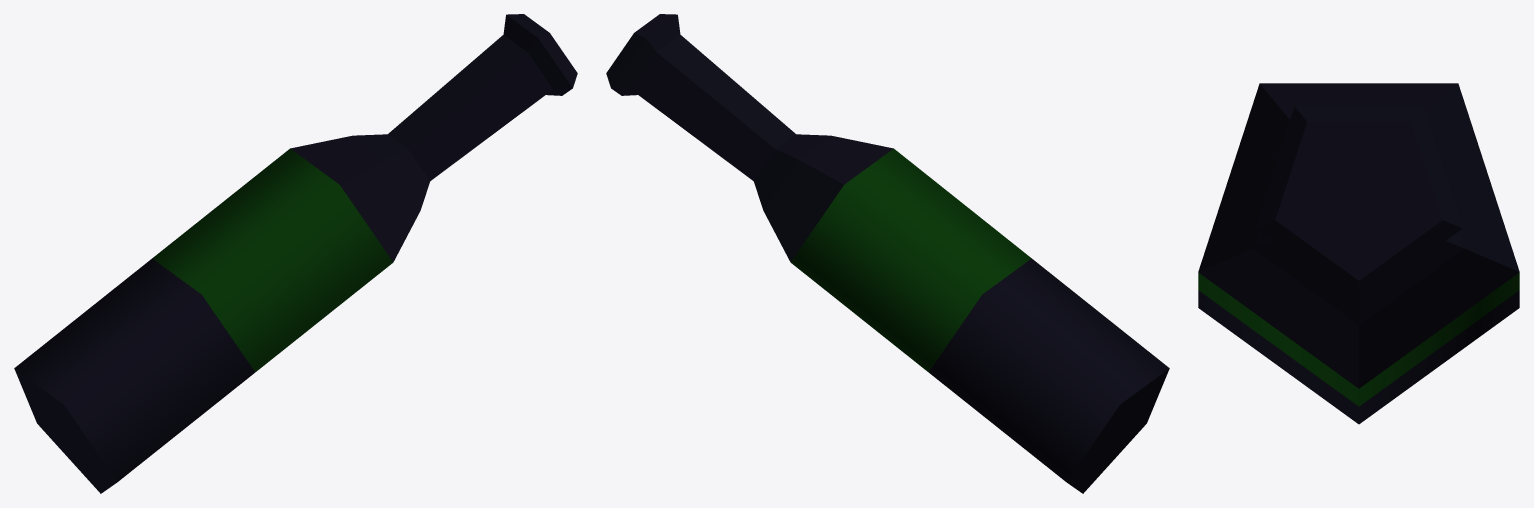
File: Projectile_Bottle.FBX
3 views of the same model, side by side, from view 1: azimuth 30°, elevation 25°; view 2: azimuth 150°, elevation 25°; view 3: azimuth 270°, elevation 25° (orthographic). The views are drawn at different scales.
Parts seen in each view (by area): view 1: Cylinder002; view 2: Cylinder002; view 3: Cylinder002.
Boxes of the visible parts, x1,y1,x2,y2 form: Cylinder002: (14, 14, 577, 493); Cylinder002: (606, 14, 1169, 493); Cylinder002: (1198, 83, 1519, 424).
Size of the model in its own units: 0.3926 by 0.2582 by 0.1031.
